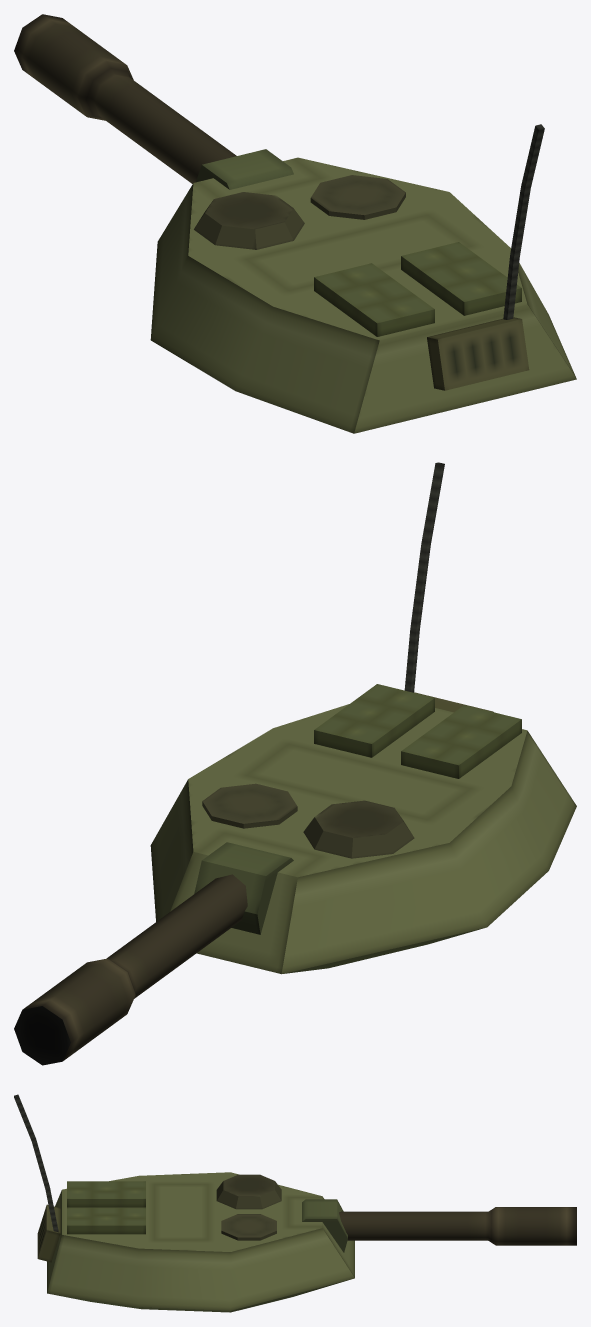
File: tanktop.fbx
The picture shows the model from 3 angles, top to bottom: view 1: azimuth 30°, elevation 25°; view 2: azimuth 150°, elevation 25°; view 3: azimuth 270°, elevation 25°; orthographic projection. The views are drawn at different scales.
Parts seen in each view (by area): view 1: pCube14; view 2: pCube14; view 3: pCube14.
Boxes of the visible parts, bbox=[...] form: pCube14: bbox=[14, 14, 576, 433]; pCube14: bbox=[14, 462, 576, 1065]; pCube14: bbox=[14, 1094, 576, 1312].
Size of the model in its own units: 1.68 by 1.51 by 3.88.
1 material, 1 textured.
